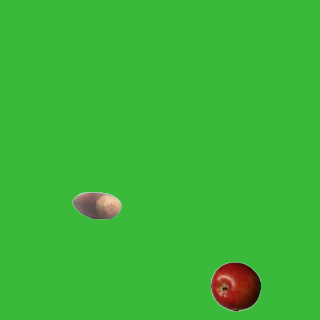Apple Braeburn: (210, 261, 260, 311)
Hazelnut: (71, 180, 121, 230)
